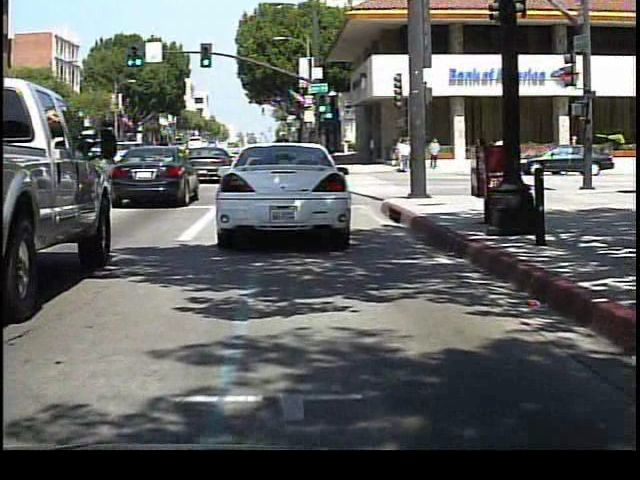person: (490, 135, 511, 173), (397, 136, 412, 177), (427, 135, 443, 170)
